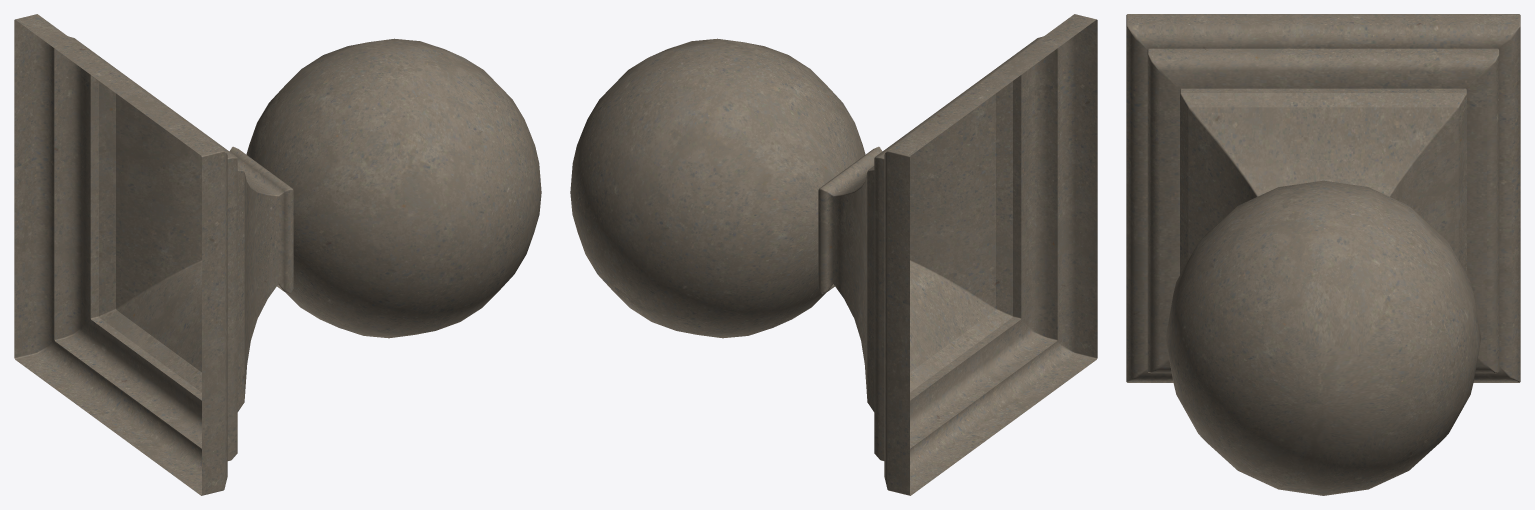
File: cP_BarrierSphere03.dae
3 renders of one model, left to right at view 1: azimuth 30°, elevation 25°; view 2: azimuth 150°, elevation 25°; view 3: azimuth 270°, elevation 25°, orthographic. The views are drawn at different scales.
Visible parts, largest first — view 1: cP_BarrierSphere03.001; view 2: cP_BarrierSphere03.001; view 3: cP_BarrierSphere03.001.
Part boxes in pixels (x1,y1,x2,y2): cP_BarrierSphere03.001: (14,14,541,495); cP_BarrierSphere03.001: (570,14,1097,495); cP_BarrierSphere03.001: (1126,14,1520,495).
Bounding box in the file's own units: 0.5599 × 0.44 × 0.44.
